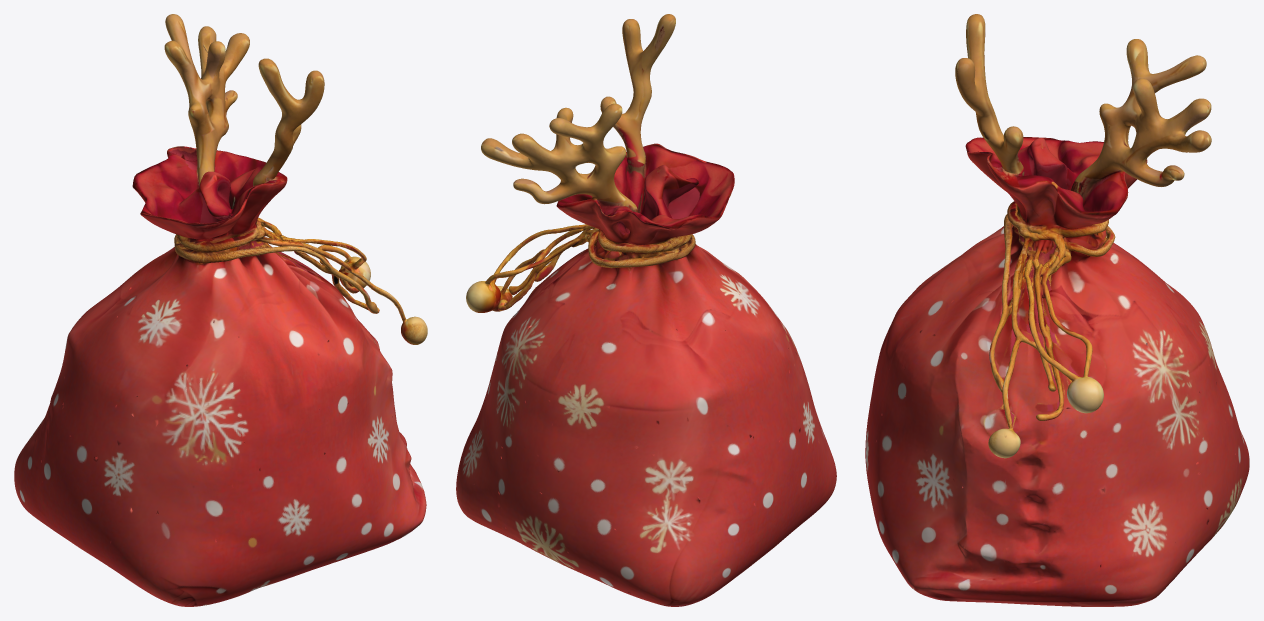
File: A_clean_stylized_Chr_0805141604_texture.fbx
The picture shows the model from 3 angles, left to right: view 1: azimuth 30°, elevation 25°; view 2: azimuth 150°, elevation 25°; view 3: azimuth 270°, elevation 25°; orthographic projection. The views are drawn at different scales.
Visible parts, largest first — view 1: input; view 2: input; view 3: input.
Boxes of the visible parts, box(x1,y1,x2,y2) form: input: box(14, 14, 427, 606); input: box(456, 14, 836, 606); input: box(865, 14, 1249, 606).
Size of the model in its own units: 139 by 200 by 129.
1 material, 1 textured.
